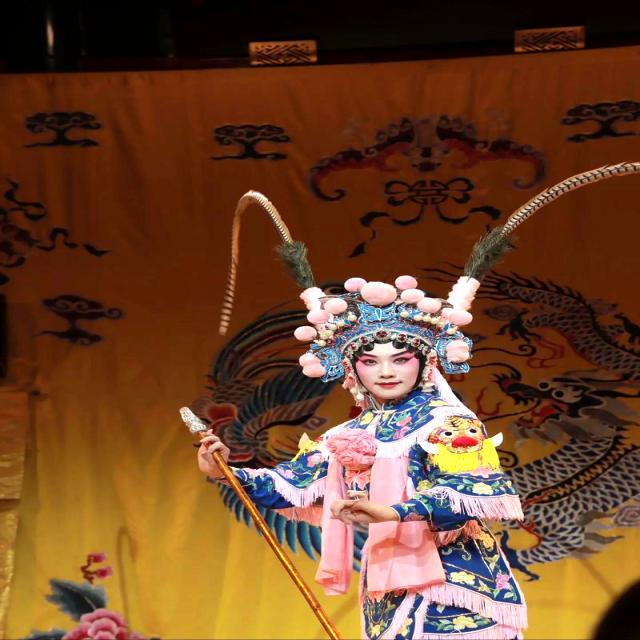Reeves-s Pheasant: (463, 162, 639, 279), (219, 190, 315, 335)
